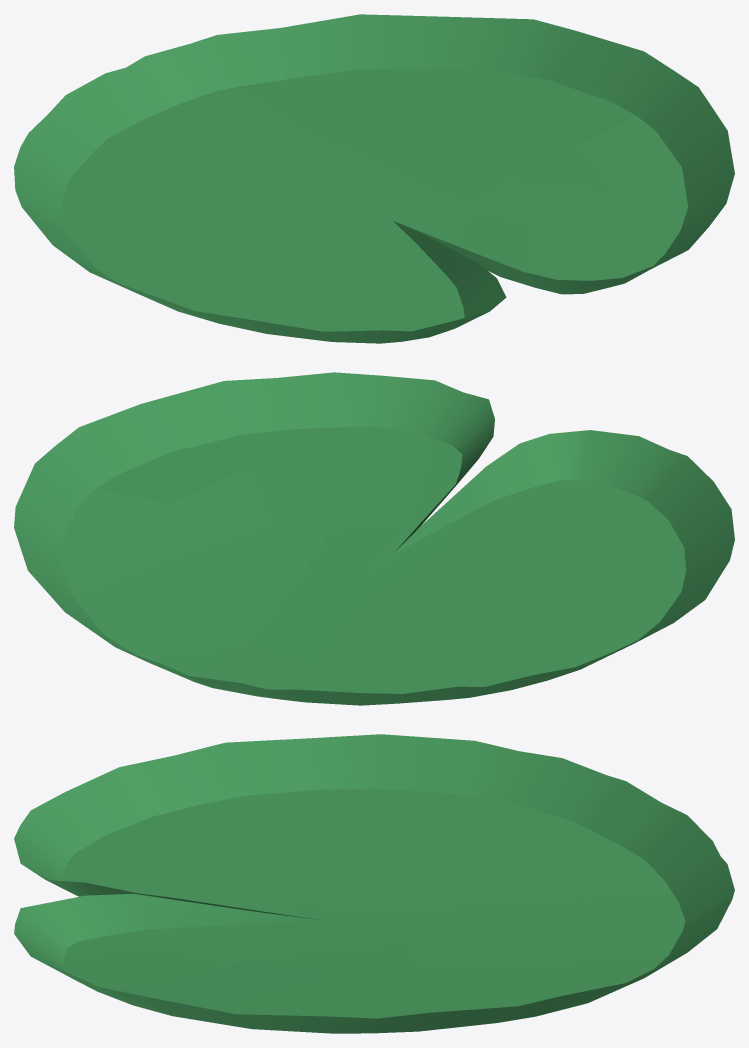
The model's file is plant_nymphaea_B.fbx.
The picture shows the model from 3 angles, top to bottom: view 1: azimuth 30°, elevation 25°; view 2: azimuth 150°, elevation 25°; view 3: azimuth 270°, elevation 25°; orthographic projection.
Parts seen in each view (by area): view 1: plant_nymphaea_B; view 2: plant_nymphaea_B; view 3: plant_nymphaea_B.
Part boxes in pixels (x1=…): plant_nymphaea_B: x1=14, y1=14, x2=734, y2=343; plant_nymphaea_B: x1=14, y1=372, x2=734, y2=705; plant_nymphaea_B: x1=14, y1=734, x2=734, y2=1033.
Bounding box in the file's own units: 25.73 × 2.36 × 25.42.
